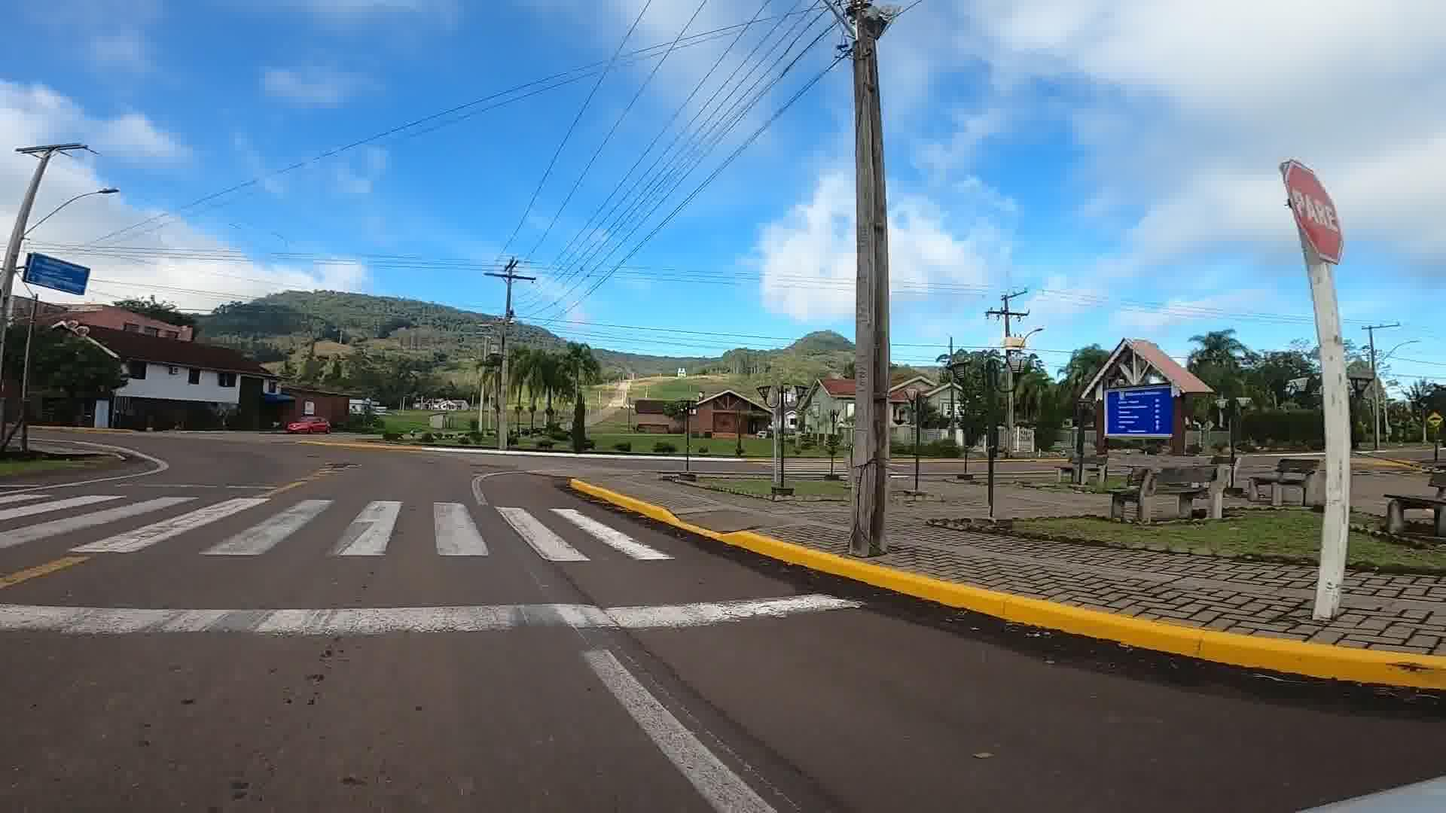R-1: (1295, 176, 1342, 250)
